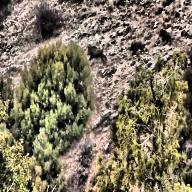boar: (86, 35, 110, 68), (157, 24, 175, 51), (128, 34, 142, 66)
